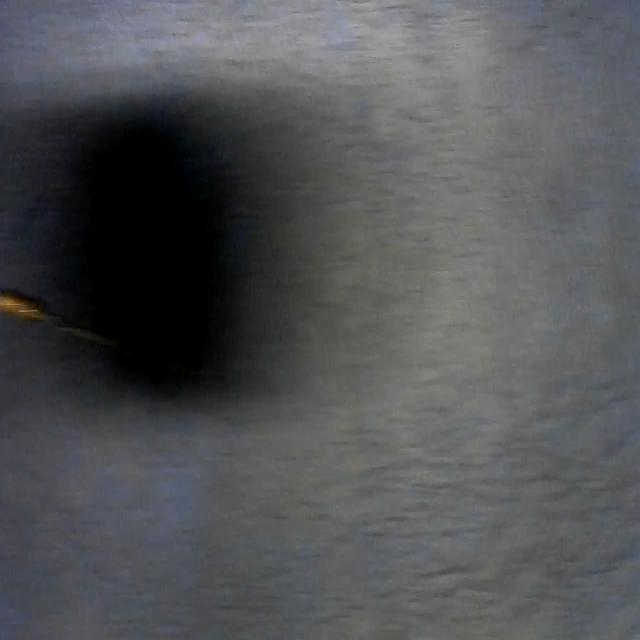resistor: (0, 286, 134, 360)
